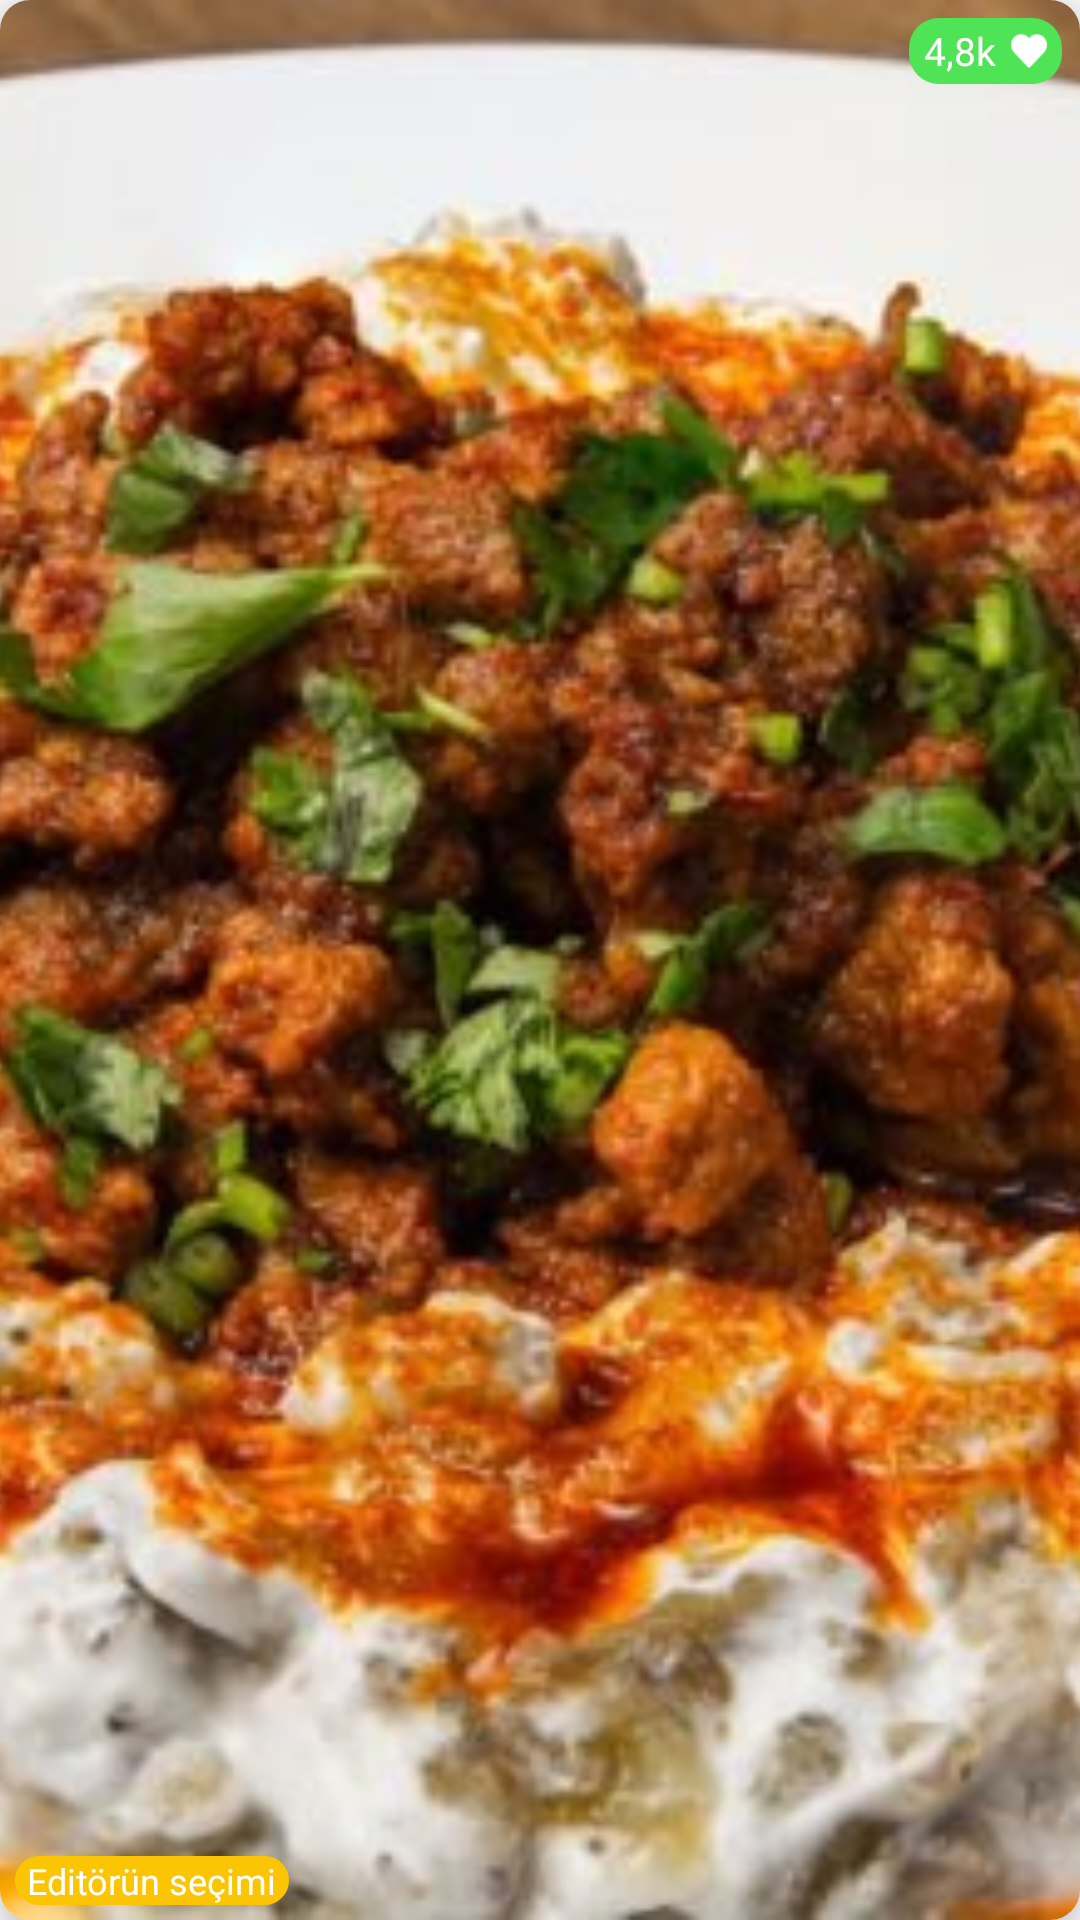

Where icons sit on this 1080 x 1920 app screen, as (x1, y1, x2, y2):
heart reverse: (1011, 34, 1047, 68)
